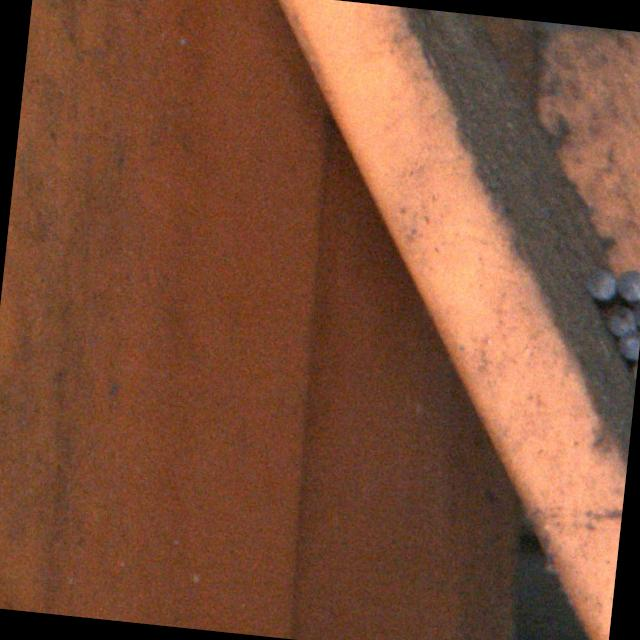tool: (598, 302, 636, 336), (582, 266, 618, 300), (615, 327, 640, 360), (616, 268, 640, 300)
